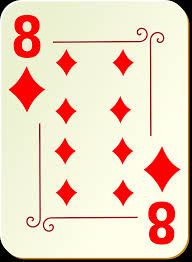eight of diamonds: (4, 2, 186, 258)
